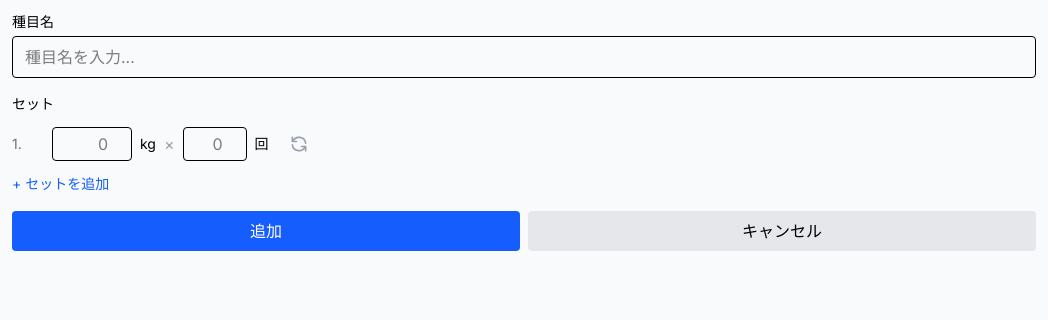
Test case: ExerciseForm › セット管理 › セット削除ボタンでセットが削除される
Add a second set first
Click the button "+ セットを追加": {"x": 61, "y": 184} [12,174,109,194]
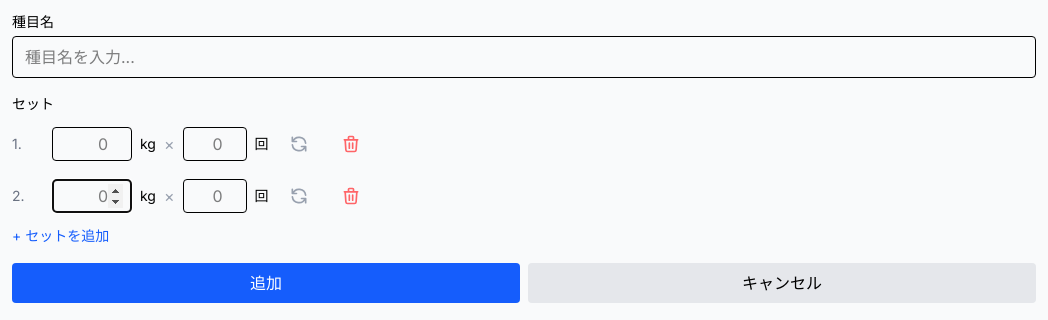
Check: the text "2." is shown, box [12,187,25,204]
Delete the second set
Click the 2nd button titled "削除": {"x": 351, "y": 196} [329,174,373,218]
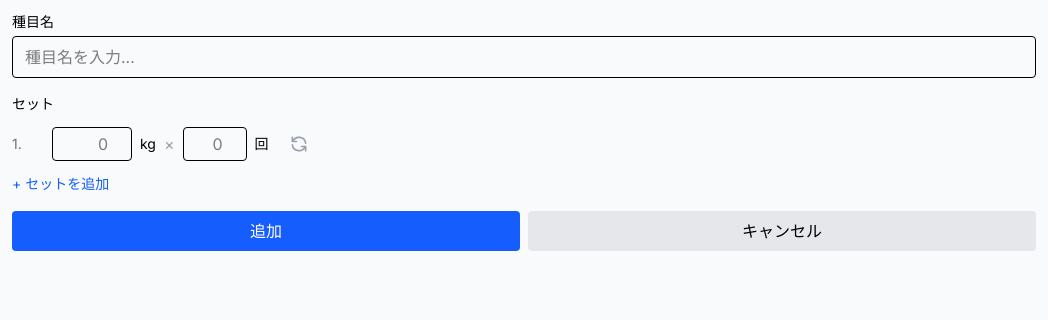
Check: the text "2." is gone
